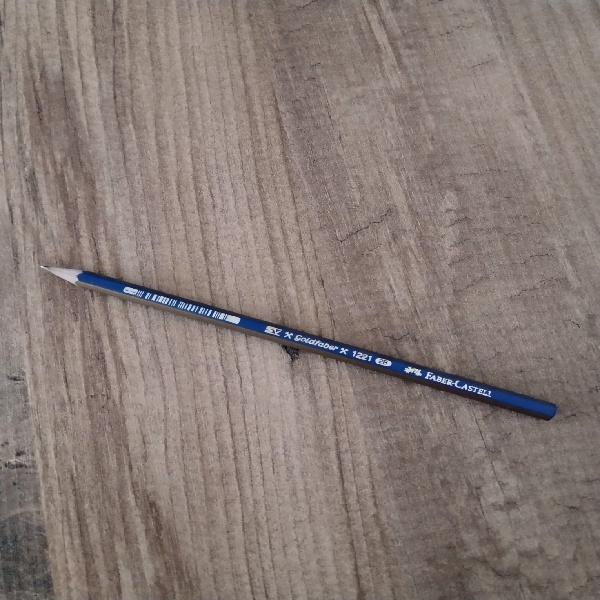pencil: (43, 266, 556, 420)
